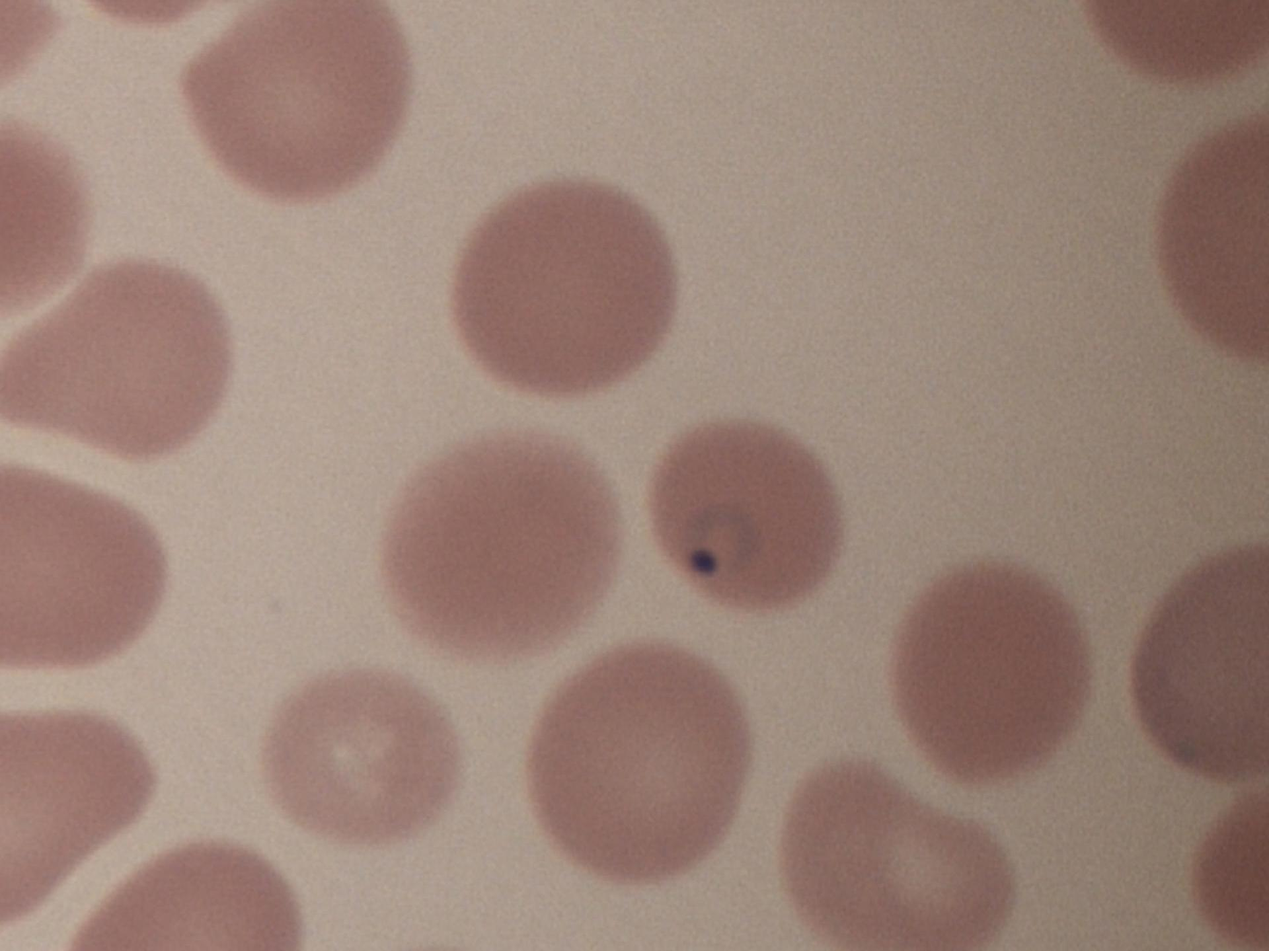Infected: (646, 419, 840, 612)
Uninfected: (524, 633, 748, 881), (380, 435, 626, 646), (448, 179, 679, 392), (183, 0, 414, 205), (0, 256, 231, 461), (889, 554, 1094, 777), (782, 759, 1012, 951), (258, 666, 463, 844), (0, 703, 158, 926), (0, 461, 167, 666), (1134, 542, 1269, 785)
